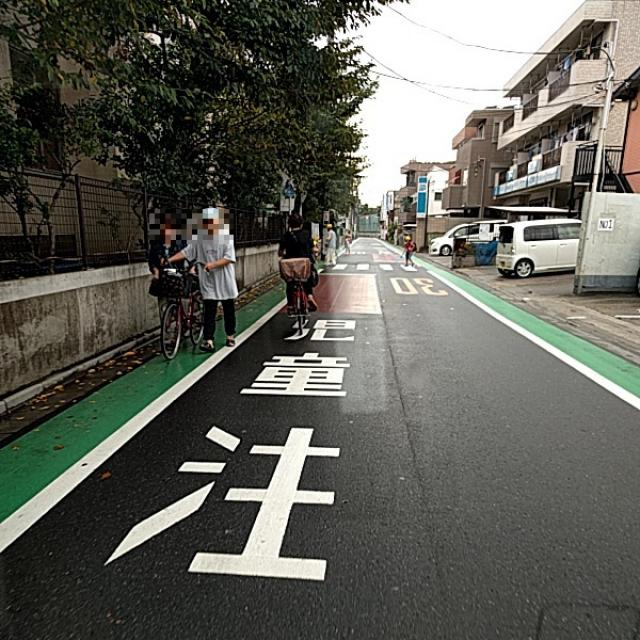pothole: (400, 475, 435, 512)
